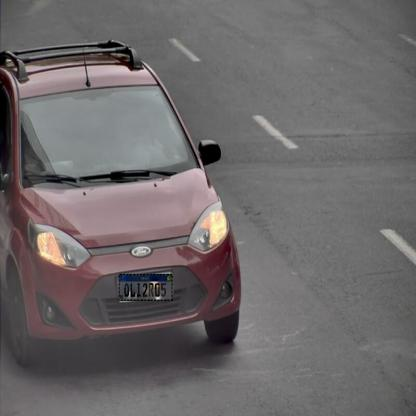PlacaM: (118, 274, 172, 301)
